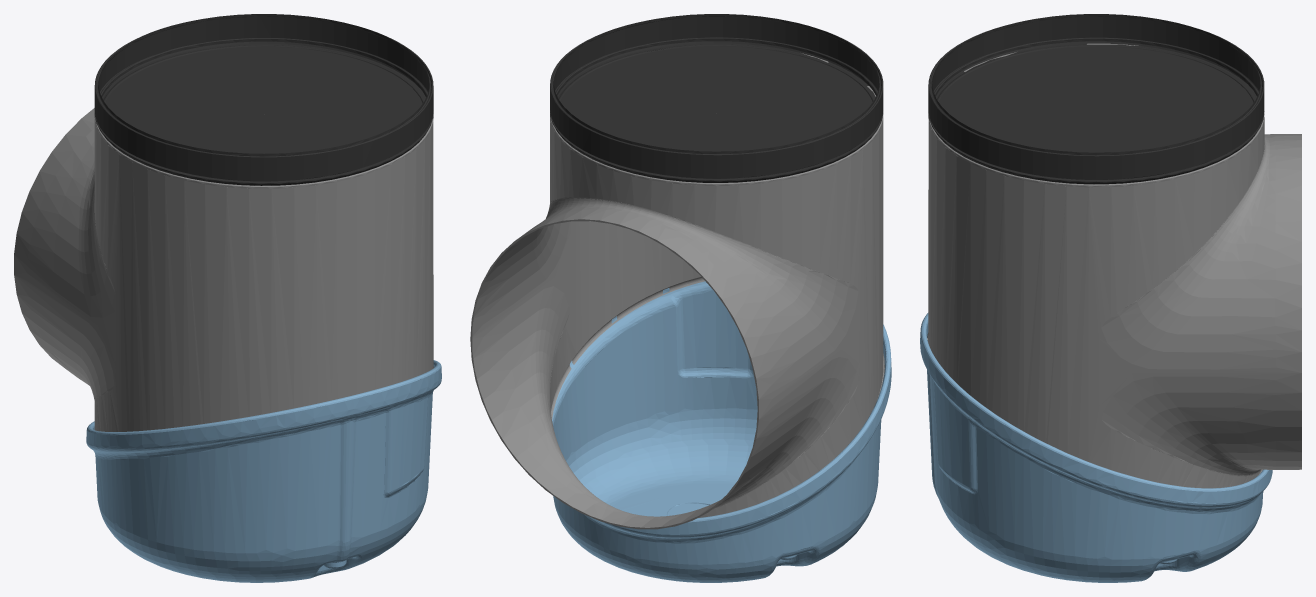
The model's file is wrist2.glb.
The picture shows the model from 3 angles, left to right: view 1: azimuth 30°, elevation 25°; view 2: azimuth 150°, elevation 25°; view 3: azimuth 270°, elevation 25°; orthographic projection.
Visible parts, largest first — view 1: eSeries_UR5e_049, eSeries_UR5e_029, eSeries_UR5e_002; view 2: eSeries_UR5e_049, eSeries_UR5e_029, eSeries_UR5e_002; view 3: eSeries_UR5e_049, eSeries_UR5e_002, eSeries_UR5e_029.
Boxes of the visible parts, box(x1,y1,x2,y2) form: eSeries_UR5e_049: box(14, 108, 434, 431); eSeries_UR5e_029: box(86, 360, 441, 582); eSeries_UR5e_002: box(94, 14, 433, 185); eSeries_UR5e_049: box(470, 53, 884, 529); eSeries_UR5e_029: box(552, 281, 891, 582); eSeries_UR5e_002: box(550, 14, 883, 182); eSeries_UR5e_049: box(927, 43, 1301, 488); eSeries_UR5e_002: box(928, 14, 1264, 184); eSeries_UR5e_029: box(920, 313, 1272, 582).
Bounding box in the file's own units: 0.0787 × 0.1099 × 0.0852.
